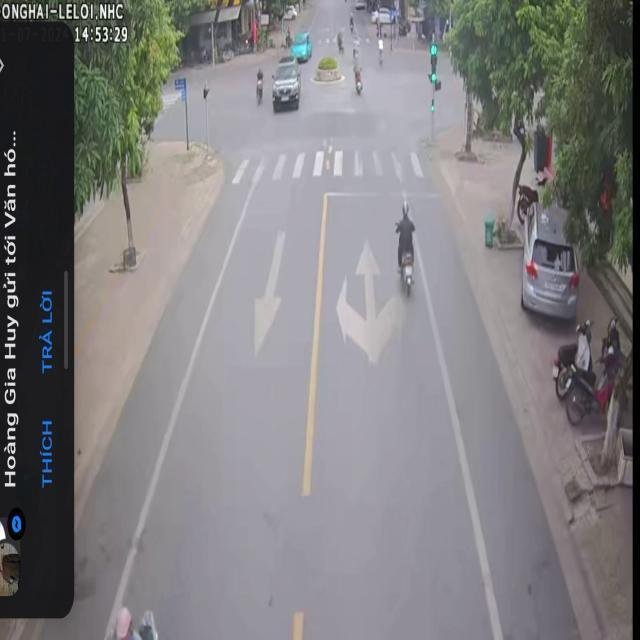car: (519, 200, 578, 318), (270, 56, 299, 111), (289, 29, 310, 60)
green_light: (430, 44, 438, 86)
motobike: (563, 345, 622, 422), (550, 318, 593, 398), (399, 249, 412, 296), (254, 67, 262, 101)
stop_line: (326, 188, 442, 198)
